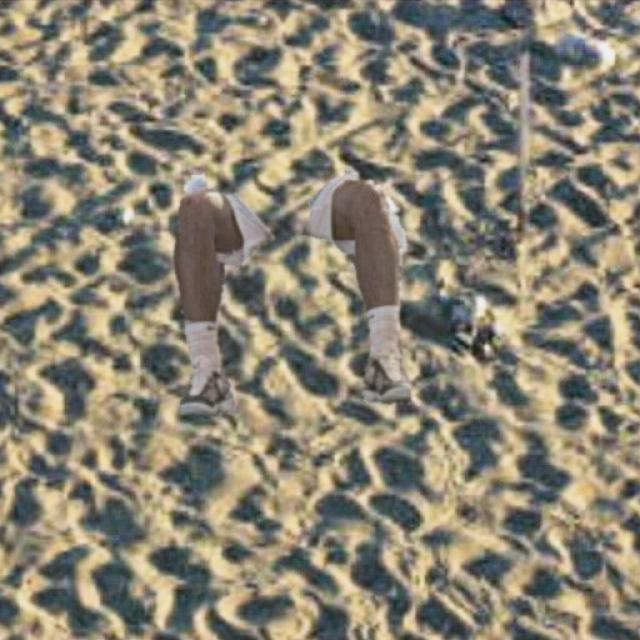Person in Rubble: (172, 166, 410, 415)
